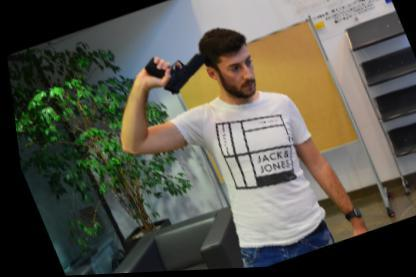pistol: (138, 41, 214, 100)
